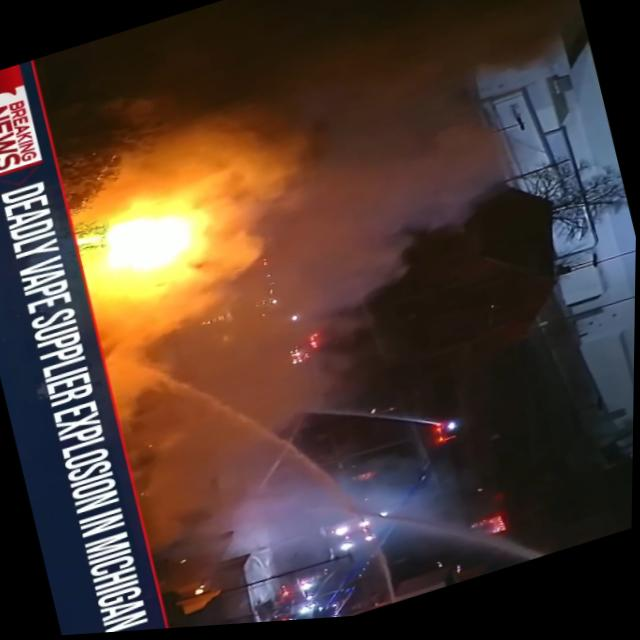Fire: (48, 73, 363, 383)
